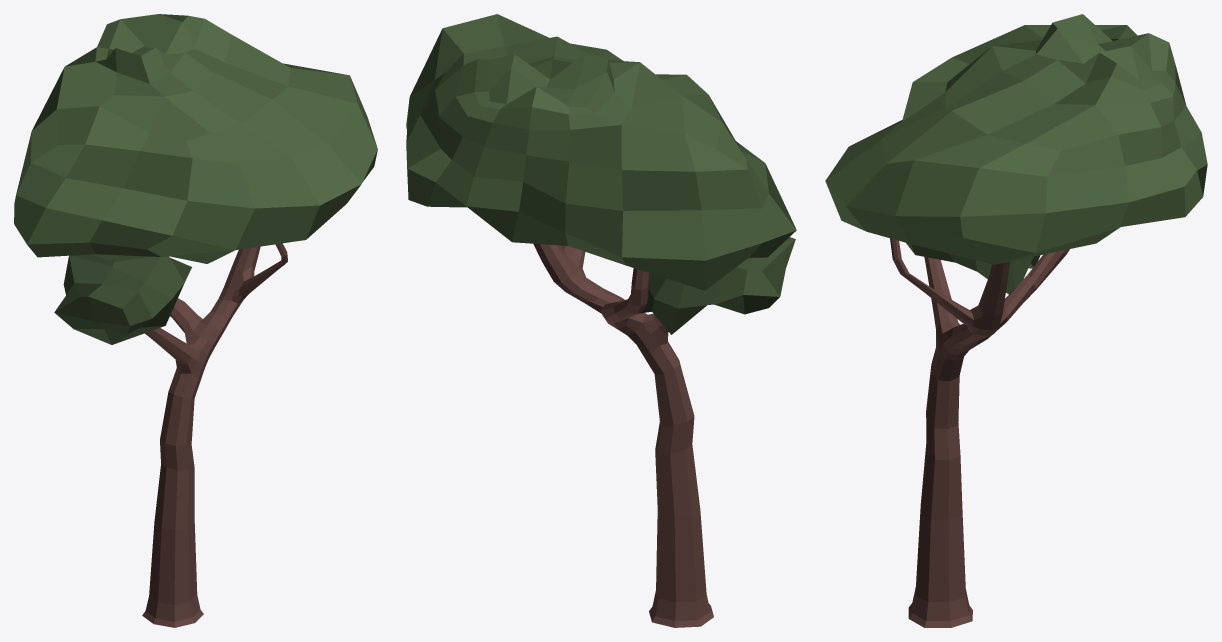
Rendered from Apple_Harvested.gltf.
The picture shows the model from 3 angles, left to right: view 1: azimuth 30°, elevation 25°; view 2: azimuth 150°, elevation 25°; view 3: azimuth 270°, elevation 25°; orthographic projection. The views are drawn at different scales.
Visible parts, largest first — view 1: Apple_Harvested; view 2: Apple_Harvested; view 3: Apple_Harvested.
Part boxes in pixels (x1,y1,x2,y2): Apple_Harvested: (14,14,377,627); Apple_Harvested: (406,14,796,627); Apple_Harvested: (825,14,1207,627).
Size of the model in its own units: 1.8 by 2.76 by 1.58.
